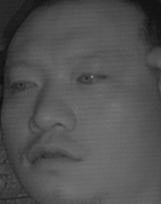eye: (74, 67, 110, 88), (9, 74, 40, 96)
mouth: (26, 141, 82, 173)
